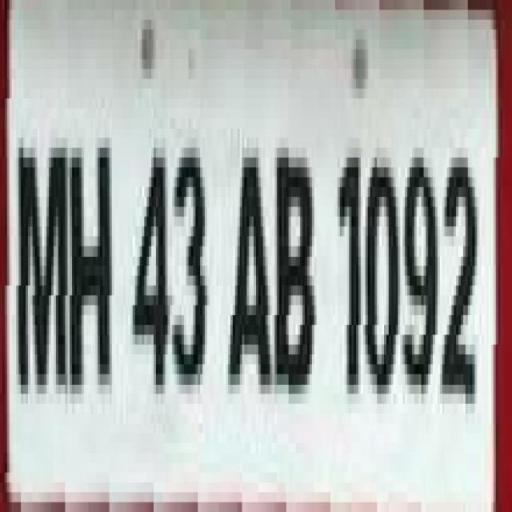number plate: (21, 0, 512, 492)
